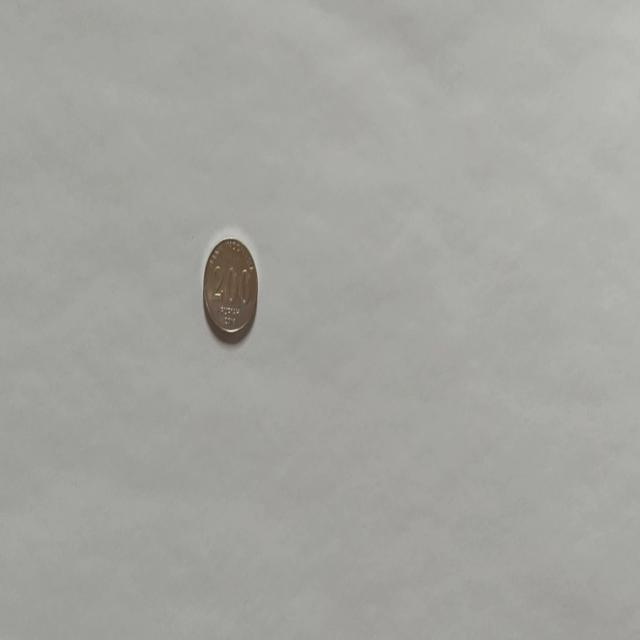dua ratus rupiah: (202, 235, 258, 338)
